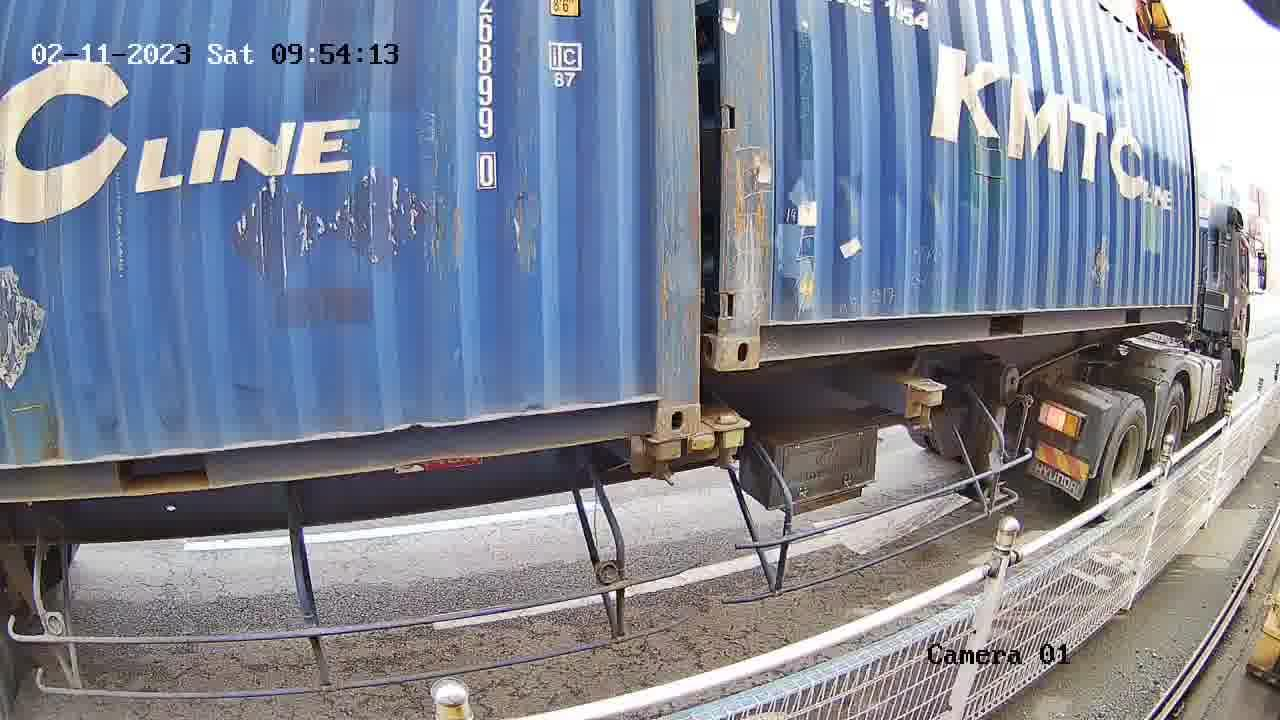Cone: (709, 415, 747, 471), (646, 440, 685, 487)
Hole_L: (714, 299, 796, 371)
Hole_R: (618, 371, 701, 441)
Tire: (1102, 401, 1148, 512), (1151, 384, 1186, 482)
